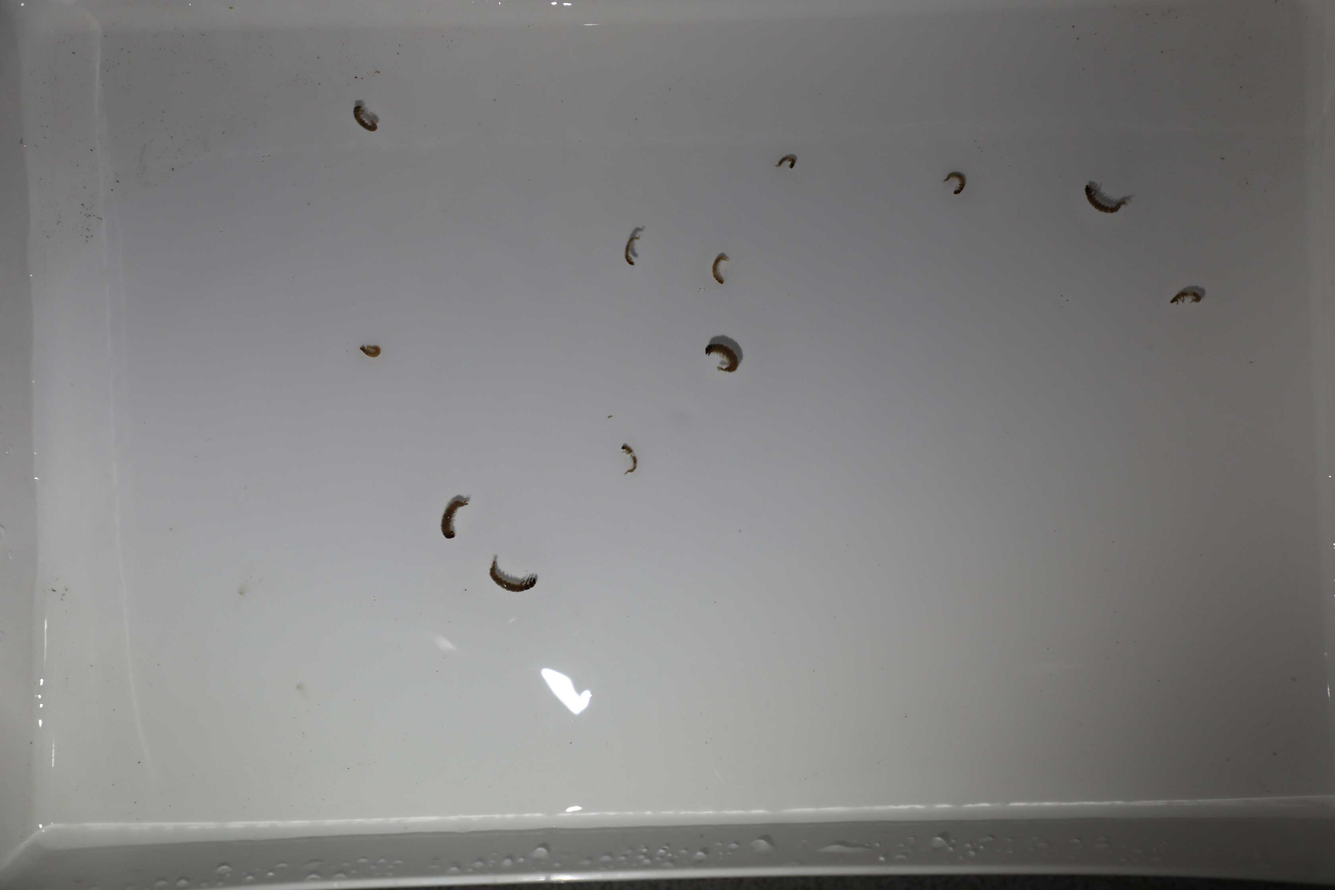Cadisfly: (431, 489, 476, 542), (700, 330, 743, 375), (487, 558, 538, 594), (1085, 183, 1134, 216), (614, 439, 646, 477), (621, 228, 646, 269), (352, 99, 378, 135), (708, 248, 731, 287), (1169, 287, 1207, 310), (941, 170, 968, 201), (357, 338, 386, 358), (774, 149, 798, 170)
